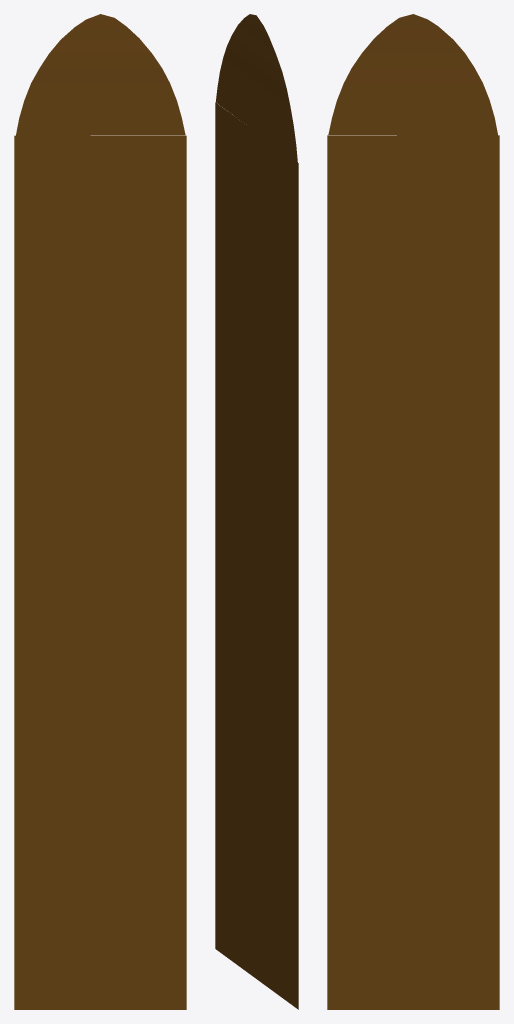
The model's file is StainedGlass_01_x3_Lod0.fbx.
The picture shows the model from 3 angles, left to right: view 1: azimuth 90°, elevation 25°; view 2: azimuth 210°, elevation 25°; view 3: azimuth 270°, elevation 25°; orthographic projection. The views are drawn at different scales.
Visible parts, largest first — view 1: StainedGlass_01_x3_Lod0; view 2: StainedGlass_01_x3_Lod0; view 3: StainedGlass_01_x3_Lod0.
Part boxes in pixels (<box>): StainedGlass_01_x3_Lod0: <box>14,14,186,1009</box>; StainedGlass_01_x3_Lod0: <box>215,14,298,1009</box>; StainedGlass_01_x3_Lod0: <box>327,14,499,1009</box>.
Bounding box in the file's own units: 0.7949 × 1025 × 161.
